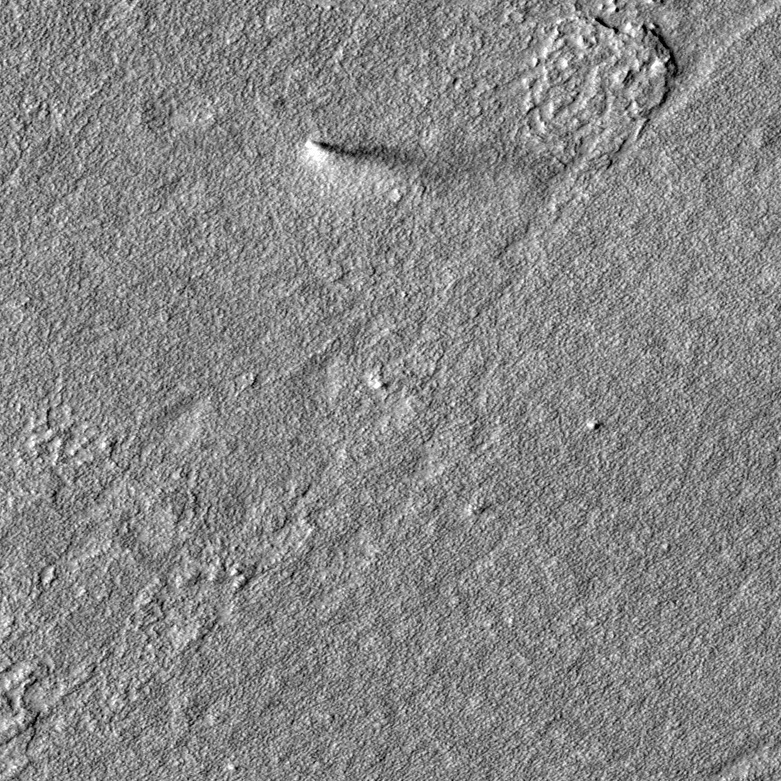dust_devil: (299, 136, 407, 166)
